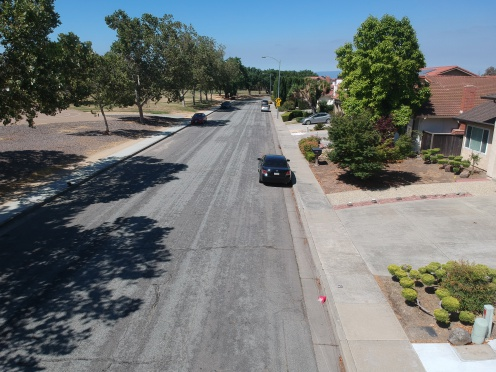can: (334, 280, 346, 290)
plastic bag: (316, 291, 329, 307)
